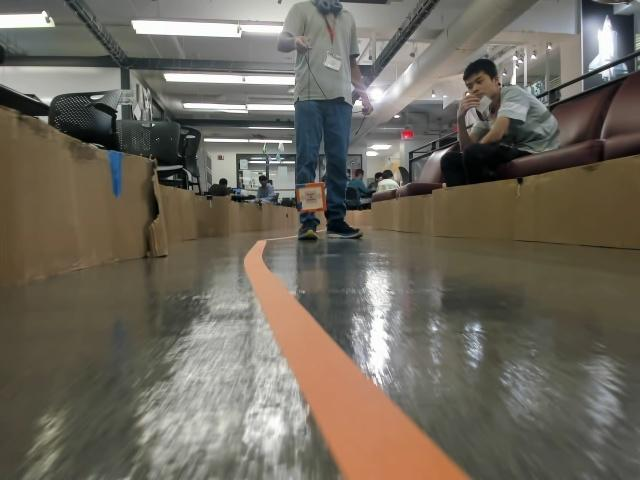Do Not Go Around: (300, 190, 320, 202)
